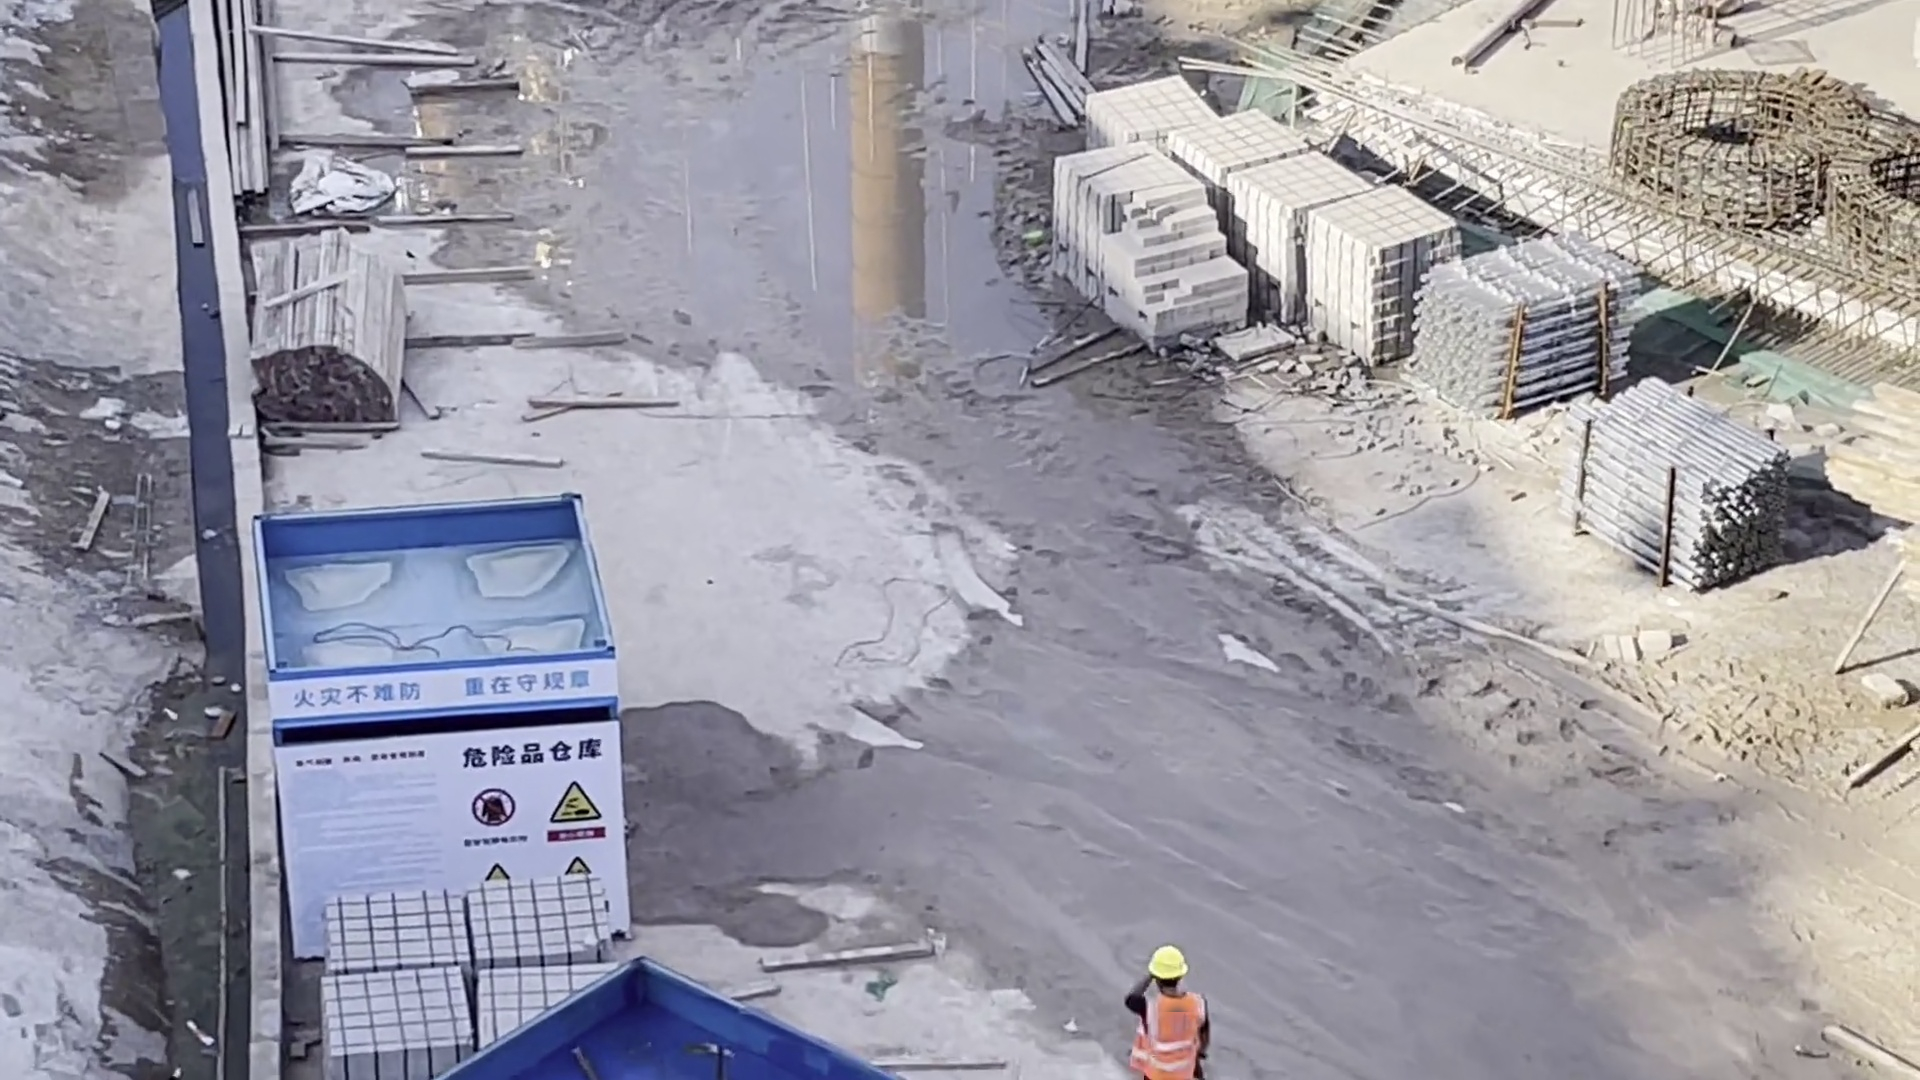brick: (1056, 95, 1436, 353)
helmet: (1144, 949, 1190, 980)
person: (1127, 946, 1210, 1080)
scaffold: (1566, 379, 1783, 588), (1420, 241, 1636, 408)
slogan: (438, 779, 617, 881), (271, 665, 612, 707)
vest: (1140, 995, 1201, 1080)
wood: (254, 238, 405, 424)
